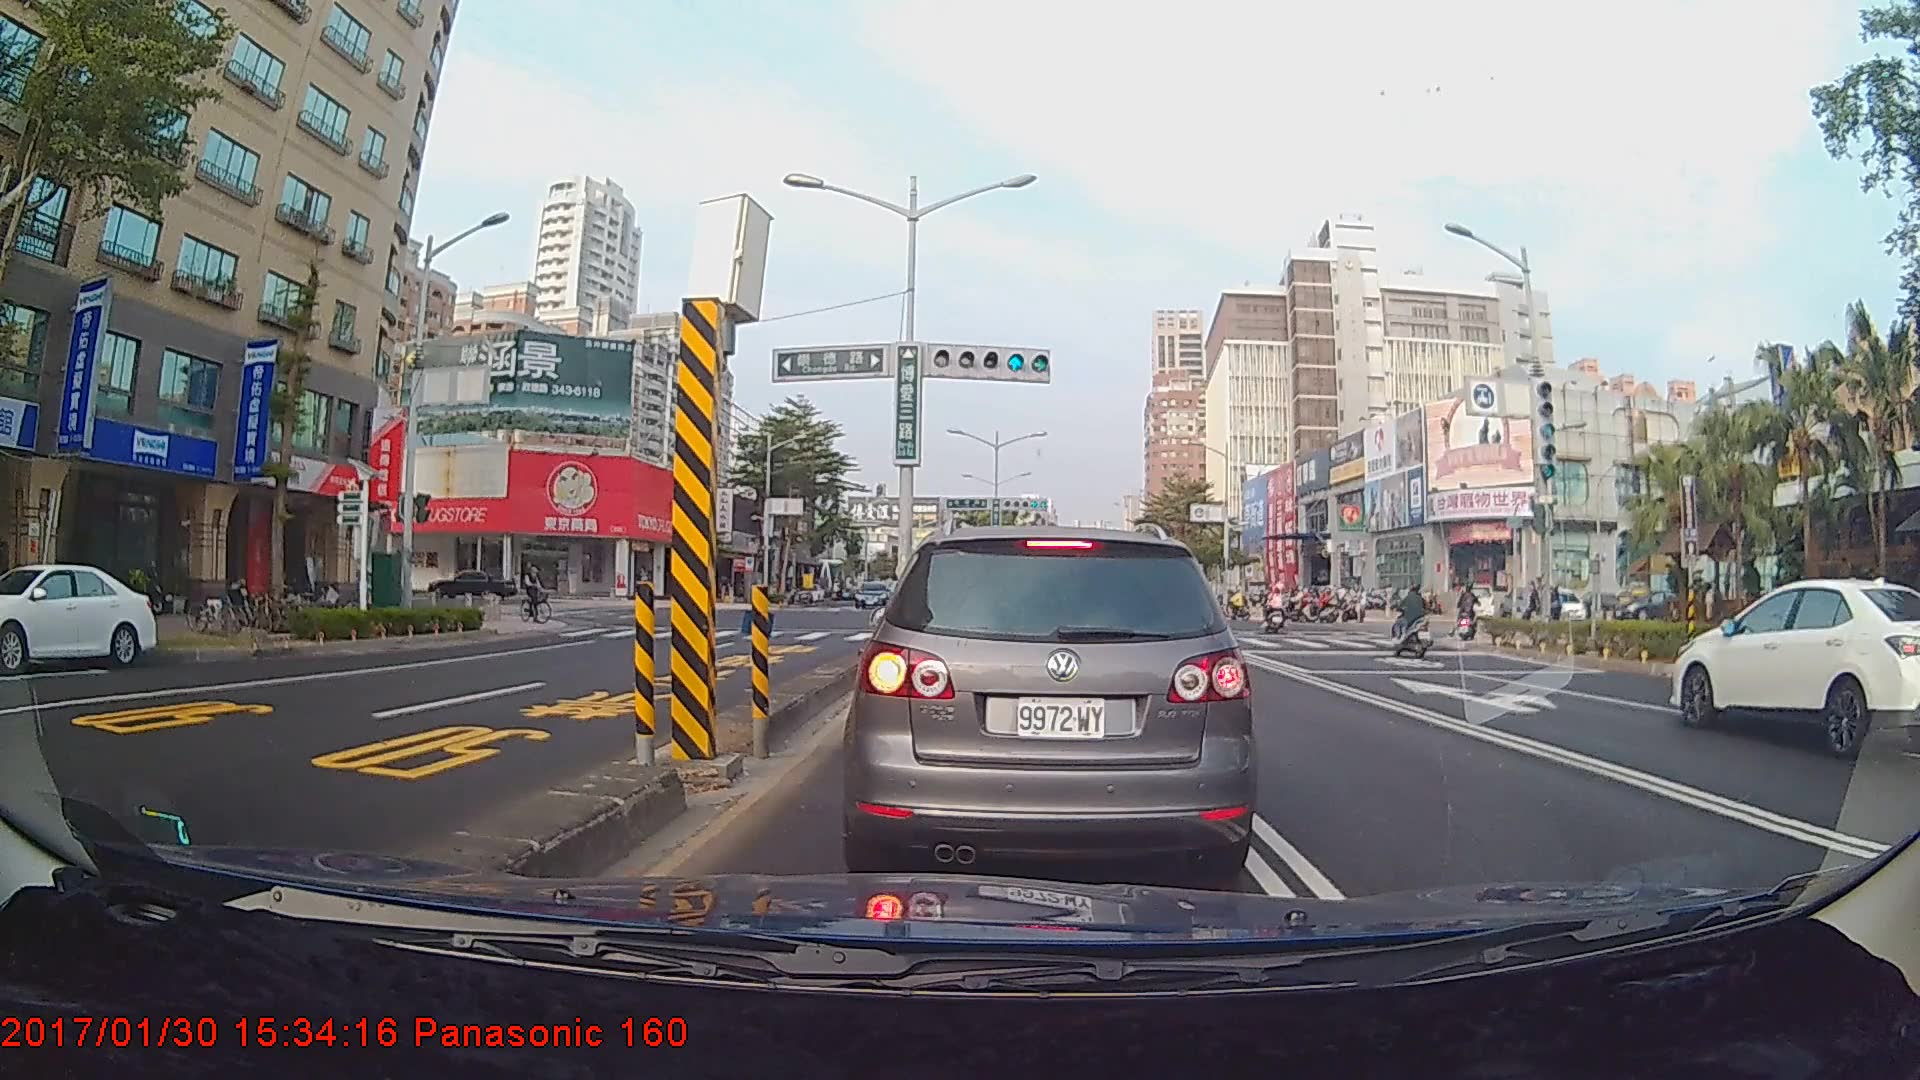pedestrian: (1704, 582, 1725, 642)
rider: (1390, 580, 1443, 660), (518, 559, 561, 629), (1449, 582, 1479, 646), (1264, 580, 1292, 639)
vehicle: (854, 519, 1253, 885), (1671, 575, 1920, 754), (0, 561, 158, 671), (426, 568, 515, 601), (854, 581, 890, 609)
